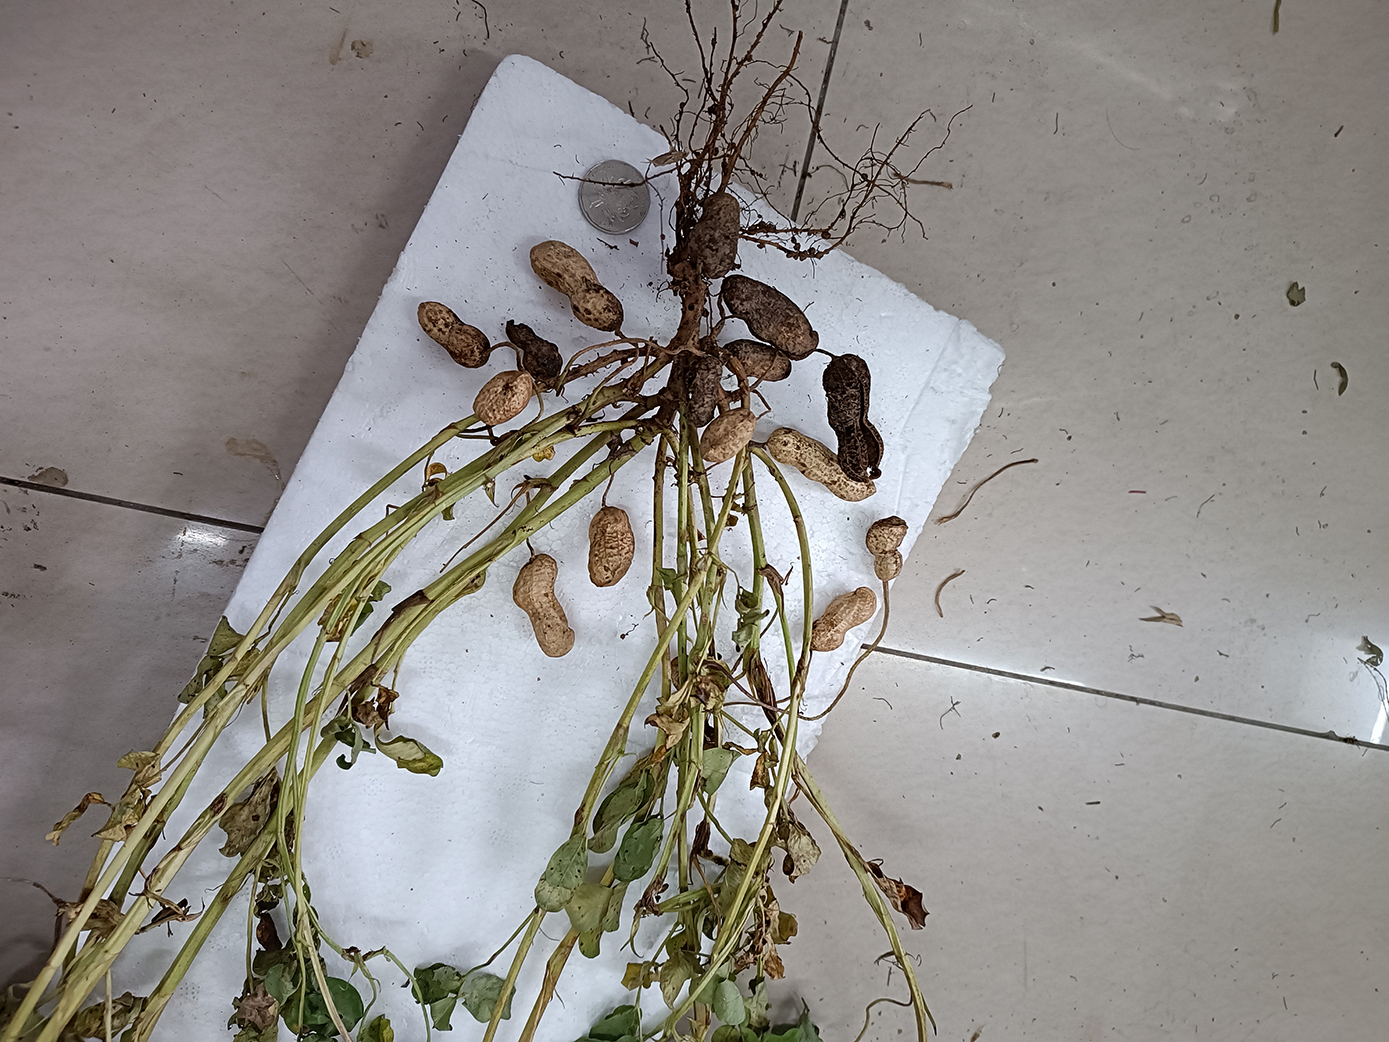h: (530, 240, 625, 331), (766, 425, 877, 501), (512, 554, 576, 658), (812, 587, 877, 653), (588, 509, 636, 587), (698, 408, 756, 464), (473, 369, 532, 422), (865, 516, 907, 582)
l: (722, 276, 818, 361), (824, 354, 884, 482), (416, 299, 493, 367), (503, 320, 563, 381), (697, 194, 740, 276), (722, 341, 792, 382), (686, 356, 718, 425)
